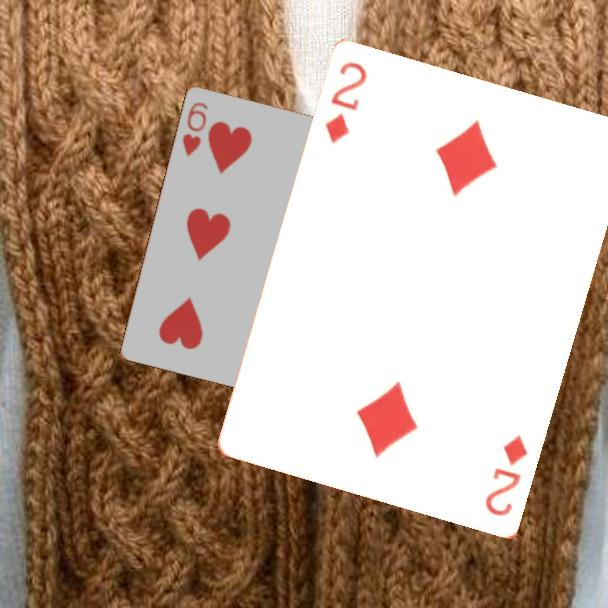d02: (482, 432, 531, 520), (322, 59, 370, 147)
h06: (178, 98, 211, 159)
